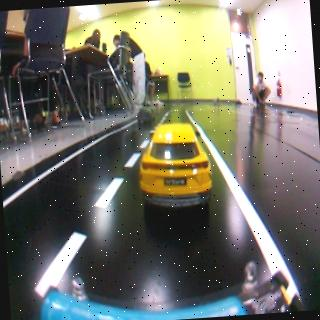car: (137, 116, 220, 226)
